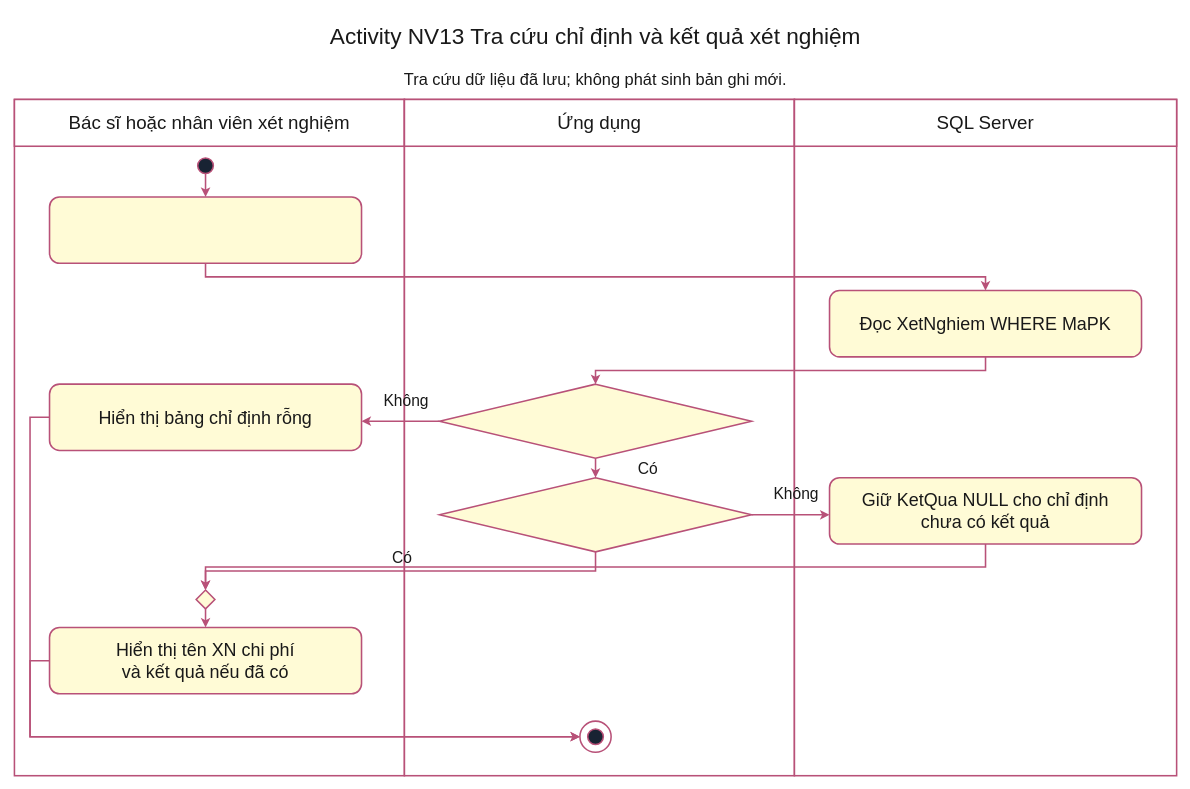
Image size: 1190x789. Some labels were removed from this diagram. The box of each missing label's shape, as (x1, y1, x2, y2) in pixels:
Chọn hồ sơ và phiếu khám: (48, 196, 362, 264)
Có chỉ định?: (438, 383, 752, 459)
KetQua có giá trị?: (438, 477, 752, 552)
